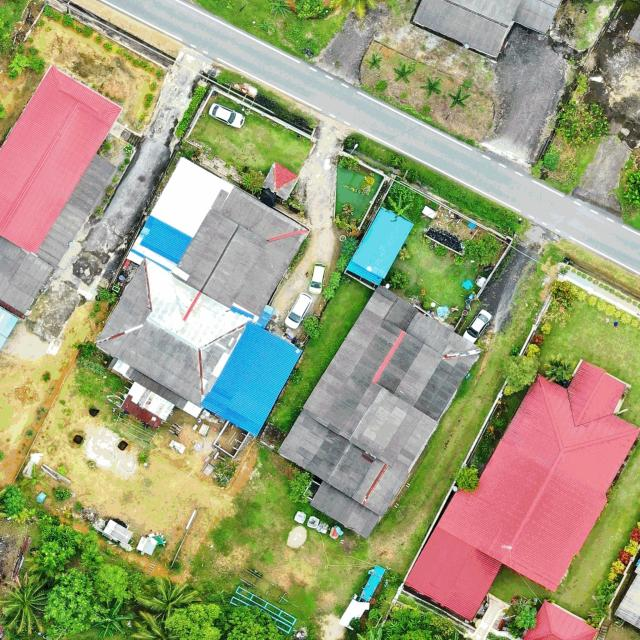Tree: (43, 568, 107, 635), (134, 575, 200, 619), (555, 96, 611, 147), (0, 575, 48, 634), (166, 602, 224, 640), (225, 604, 279, 640), (504, 349, 541, 394), (91, 599, 132, 639), (460, 232, 504, 267), (95, 563, 129, 605), (542, 354, 579, 384), (509, 596, 539, 630), (286, 469, 314, 503), (454, 464, 481, 492), (418, 73, 444, 97), (448, 85, 472, 109), (387, 194, 413, 216), (8, 54, 30, 76), (393, 62, 413, 84), (365, 51, 383, 70)
